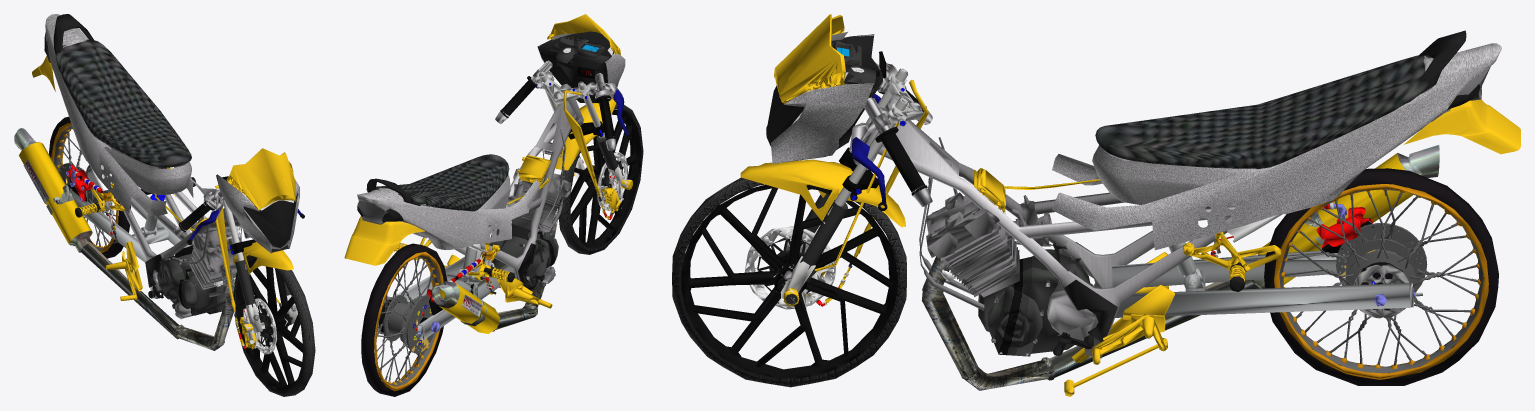
File: Satria FU.fbx
3 views of the same model, side by side, from view 1: azimuth 30°, elevation 25°; view 2: azimuth 150°, elevation 25°; view 3: azimuth 270°, elevation 25° (orthographic). The views are drawn at different scales.
Parts seen in each view (by area): view 1: bodi_rangko, ban_depan.001_wheel_front_wheel_front.003, axle_depam_mudguard_mudguard.004, rear_forks_rear_forks_rear.005, ban_depan_wheel_rear_wheel_rear.003, steer_hand; view 2: bodi_rangko, ban_depan_wheel_rear_wheel_rear.003, ban_depan.001_wheel_front_wheel_front.003, steer_hand, axle_depam_mudguard_mudguard.004, rear_forks_rear_forks_rear.005; view 3: bodi_rangko, ban_depan_wheel_rear_wheel_rear.003, ban_depan.001_wheel_front_wheel_front.003, rear_forks_rear_forks_rear.005, axle_depam_mudguard_mudguard.004, steer_hand.
Boxes of the visible parts, left/top/right/bottom form: bodi_rangko: left=14, top=14, right=299, bottom=350; ban_depan.001_wheel_front_wheel_front.003: left=233, top=255, right=315, bottom=396; axle_depam_mudguard_mudguard.004: left=215, top=185, right=297, bottom=349; rear_forks_rear_forks_rear.005: left=66, top=165, right=190, bottom=262; ban_depan_wheel_rear_wheel_rear.003: left=49, top=116, right=130, bottom=258; steer_hand: left=174, top=187, right=304, bottom=269; bodi_rangko: left=344, top=14, right=625, bottom=333; ban_depan_wheel_rear_wheel_rear.003: left=361, top=243, right=447, bottom=396; ban_depan.001_wheel_front_wheel_front.003: left=557, top=103, right=643, bottom=254; steer_hand: left=495, top=60, right=631, bottom=150; axle_depam_mudguard_mudguard.004: left=555, top=90, right=632, bottom=219; rear_forks_rear_forks_rear.005: left=389, top=247, right=513, bottom=340; bodi_rangko: left=766, top=14, right=1520, bottom=396; ban_depan_wheel_rear_wheel_rear.003: left=1264, top=168, right=1498, bottom=385; ban_depan.001_wheel_front_wheel_front.003: left=672, top=177, right=906, bottom=387; rear_forks_rear_forks_rear.005: left=1112, top=202, right=1422, bottom=317; axle_depam_mudguard_mudguard.004: left=740, top=79, right=928, bottom=308; steer_hand: left=827, top=61, right=932, bottom=215.
Bounding box in the file's own units: 0.5454 × 2.09 × 1.02.
